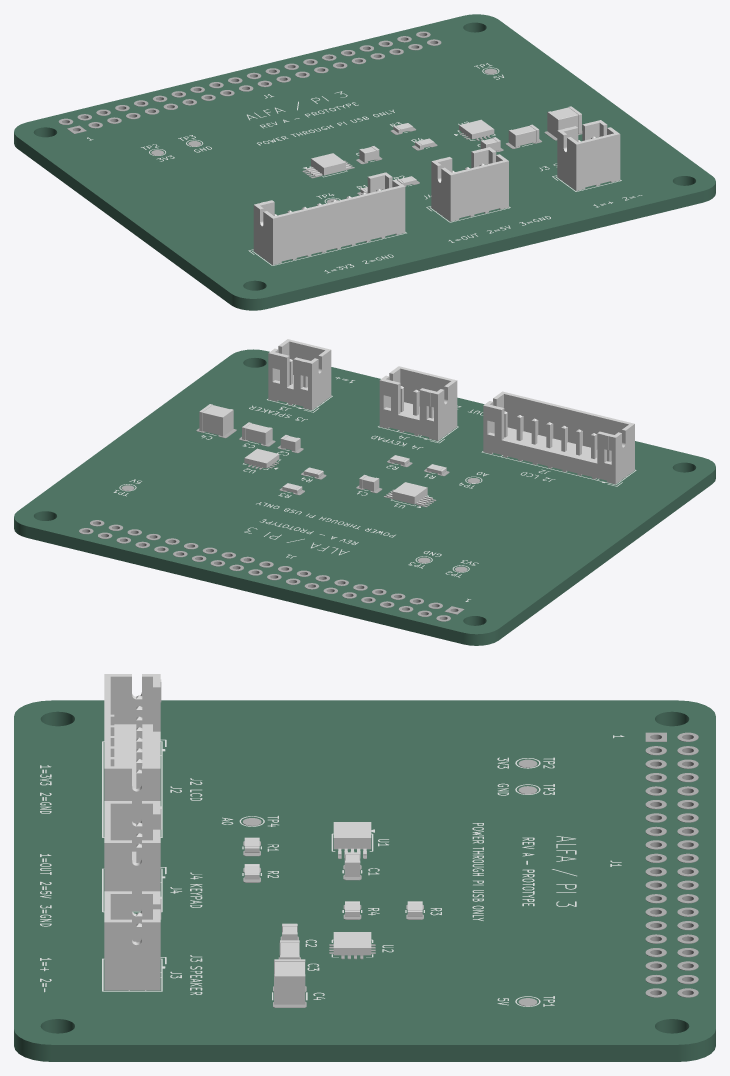
Rendered from shield.glb.
3 renders of one model, top to bottom at view 1: azimuth 30°, elevation 25°; view 2: azimuth 150°, elevation 25°; view 3: azimuth 270°, elevation 25°, orthographic. The views are drawn at different scales.
Visible parts, largest first — view 1: =>[0:1:1:13], J2, J4, =>[0:1:1:11], J3, =>[0:1:1:12], Package (×2), C4, C3; view 2: =>[0:1:1:13], J2, J4, =>[0:1:1:11], J3, =>[0:1:1:12], C4, Package, C3; view 3: =>[0:1:1:13], =>[0:1:1:11], J2, J3, =>[0:1:1:12], J4, Package (×2), C4.
Boxes of the visible parts, left/top/right/bottom form: =>[0:1:1:13]: left=14, top=14, right=715, bottom=310; J2: left=253, top=172, right=405, bottom=264; J4: left=431, top=147, right=508, bottom=221; =>[0:1:1:11]: left=58, top=31, right=582, bottom=203; J3: left=557, top=120, right=620, bottom=190; =>[0:1:1:12]: left=87, top=63, right=642, bottom=273; Package (×2): left=311, top=119, right=494, bottom=175; C4: left=547, top=106, right=581, bottom=137; C3: left=508, top=124, right=539, bottom=147; =>[0:1:1:13]: left=14, top=349, right=715, bottom=645; J2: left=483, top=391, right=634, bottom=484; J4: left=379, top=366, right=457, bottom=440; =>[0:1:1:11]: left=79, top=428, right=480, bottom=621; J3: left=268, top=339, right=331, bottom=409; =>[0:1:1:12]: left=113, top=377, right=636, bottom=601; C4: left=199, top=404, right=233, bottom=436; Package: left=392, top=482, right=427, bottom=504; C3: left=242, top=422, right=272, bottom=444; =>[0:1:1:13]: left=14, top=700, right=715, bottom=1061; =>[0:1:1:11]: left=242, top=732, right=698, bottom=1007; J2: left=104, top=674, right=161, bottom=823; J3: left=104, top=891, right=161, bottom=990; =>[0:1:1:12]: left=40, top=735, right=624, bottom=1006; J4: left=104, top=801, right=161, bottom=911; Package (×2): left=333, top=822, right=371, bottom=955; C4: left=274, top=959, right=305, bottom=1004.
Bounding box in the file's own units: 0.065 × 0.0094 × 0.056.
